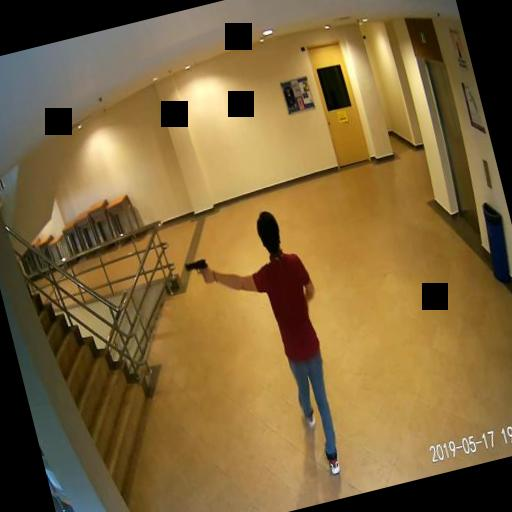Handgun: (182, 256, 211, 288)
